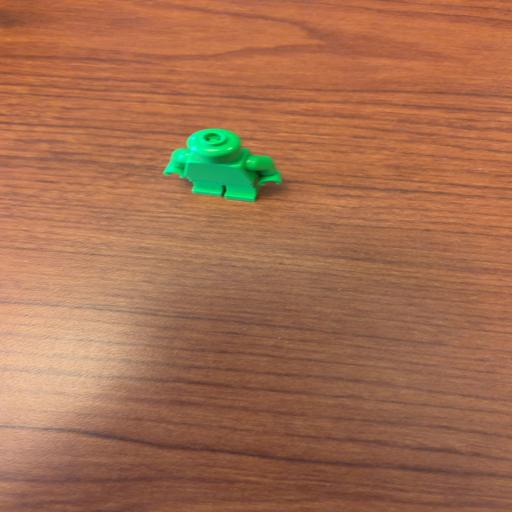UnoQ-minifig-detector: (163, 128, 282, 202)
